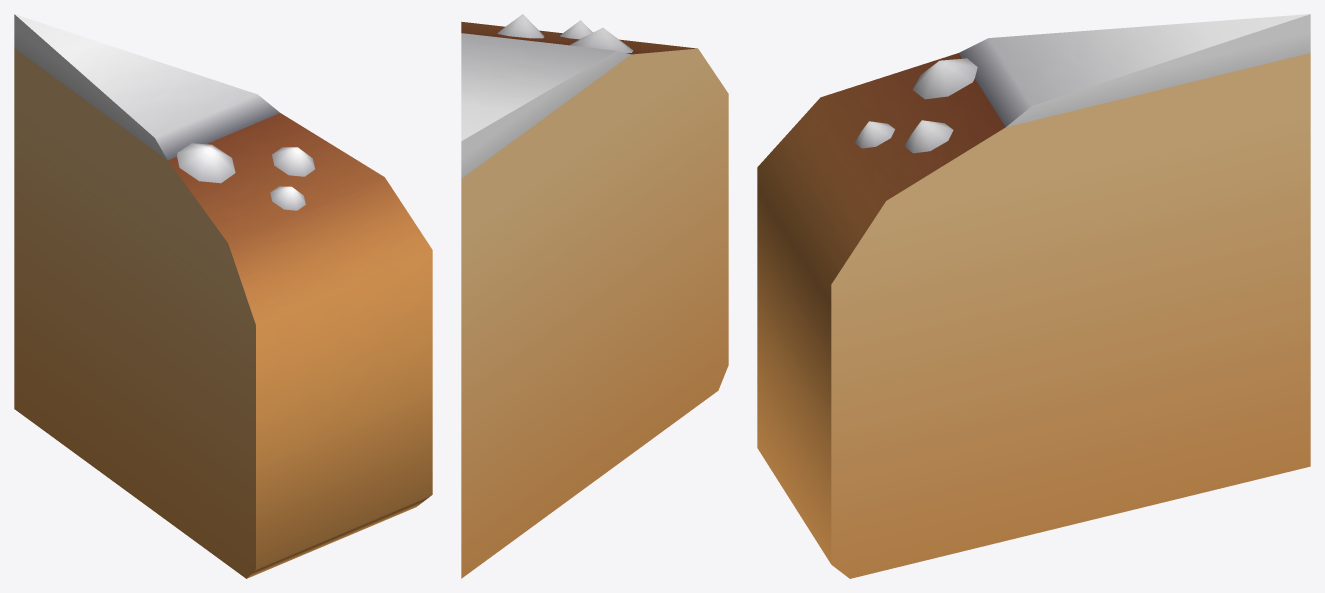
Rendered from m_JapaneseCheesecake01_Slice.fbx.
The picture shows the model from 3 angles, left to right: view 1: azimuth 30°, elevation 25°; view 2: azimuth 150°, elevation 25°; view 3: azimuth 270°, elevation 25°; orthographic projection. The views are drawn at different scales.
Visible parts, largest first — view 1: m_JapaneseCheesecake01_Slice; view 2: m_JapaneseCheesecake01_Slice; view 3: m_JapaneseCheesecake01_Slice.
Part boxes in pixels (box(x1,y1,x2,y2)): m_JapaneseCheesecake01_Slice: box(14, 14, 432, 578); m_JapaneseCheesecake01_Slice: box(461, 14, 728, 578); m_JapaneseCheesecake01_Slice: box(757, 14, 1310, 578).
Size of the model in its own units: 7 by 12.63 by 14.
